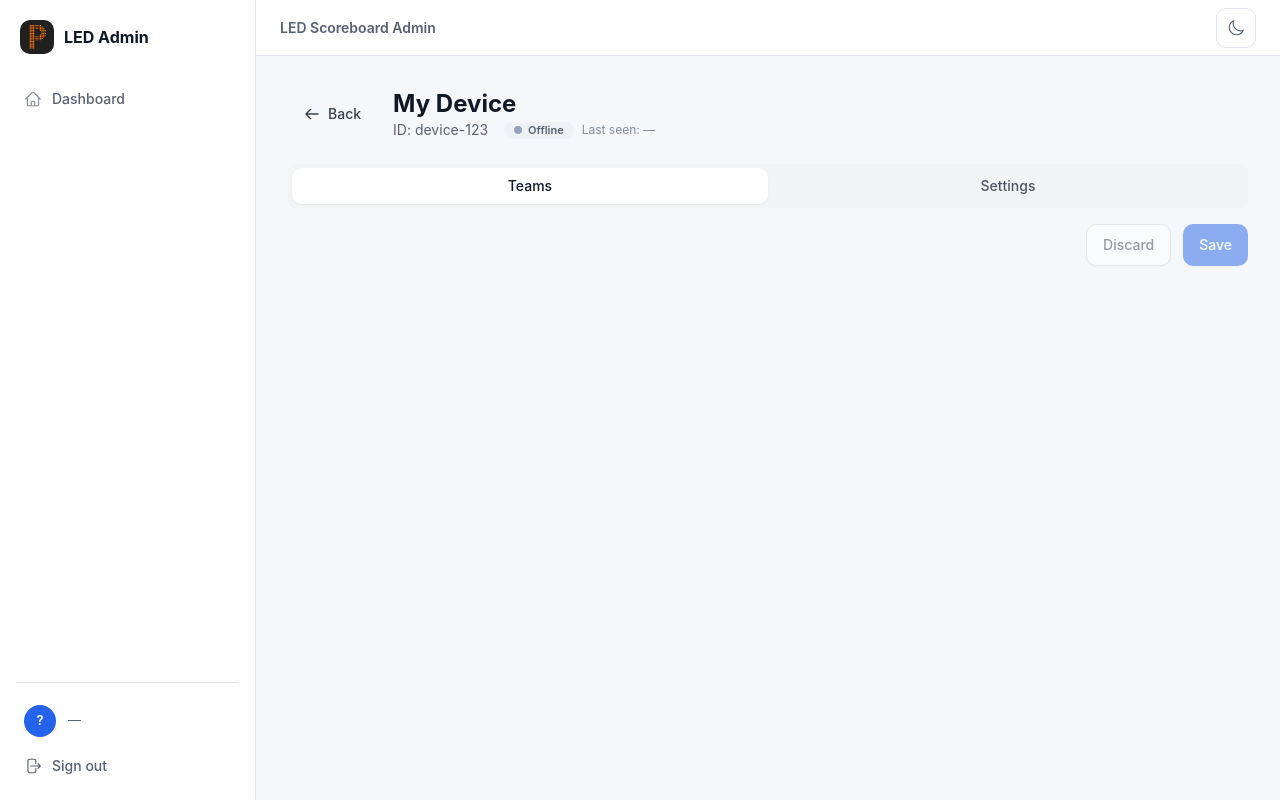
Test: DevicePage – rename message live-region and fetch guard › shows "Name updated." with role=status on successful rename
Click the tab "Settings".
click(1008, 186)  # box left=772, top=168, right=1244, bottom=204
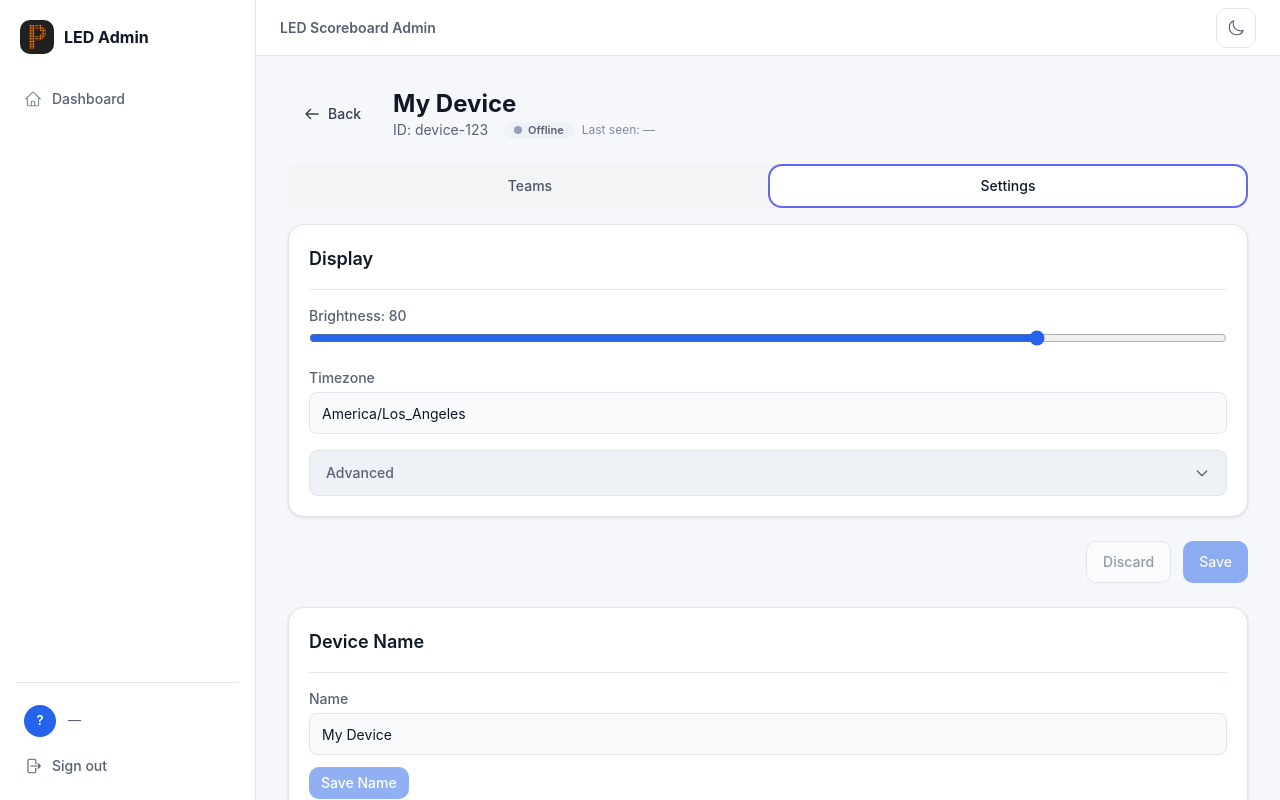
Replace the text in the field with placeholder "My Scoreboard" with "Updated" at coordinates (768, 734), box left=309, top=713, right=1227, bottom=755
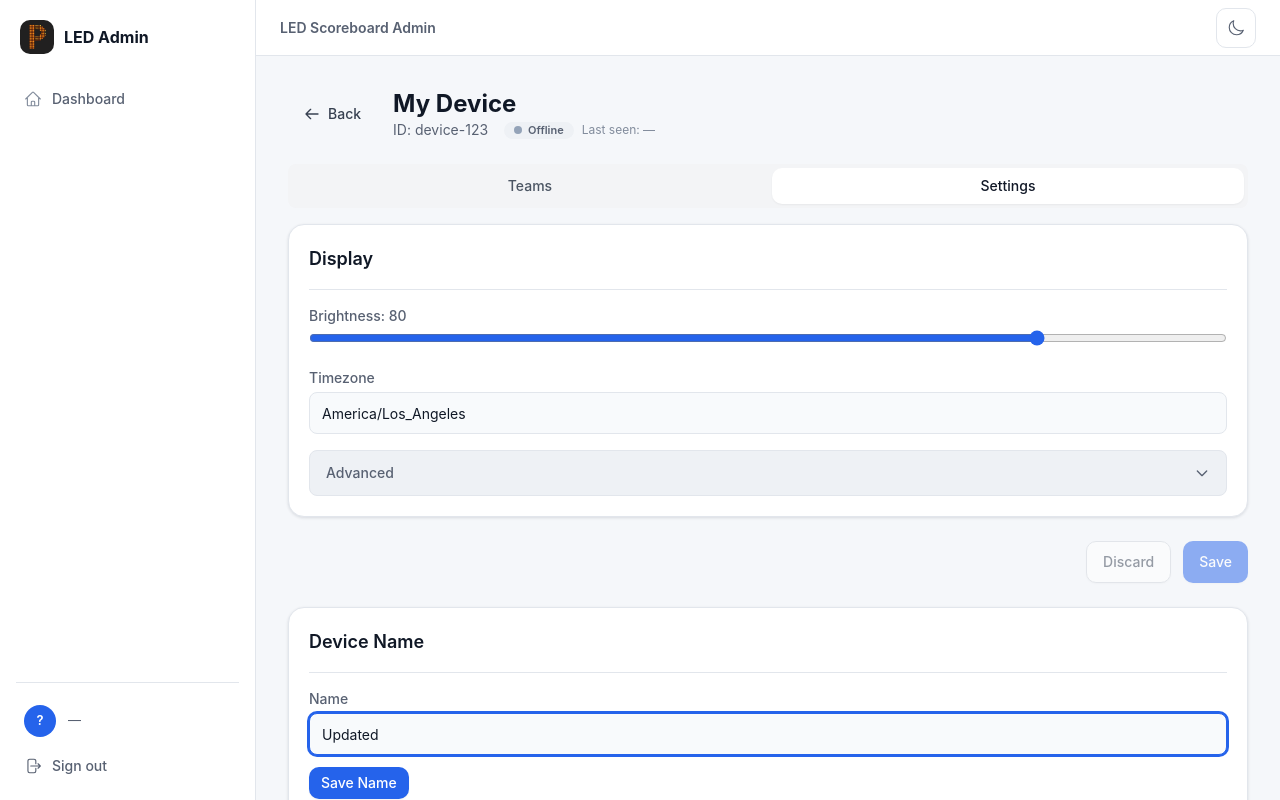
Click the button "Save Name".
click(359, 783)  # box left=309, top=767, right=409, bottom=799
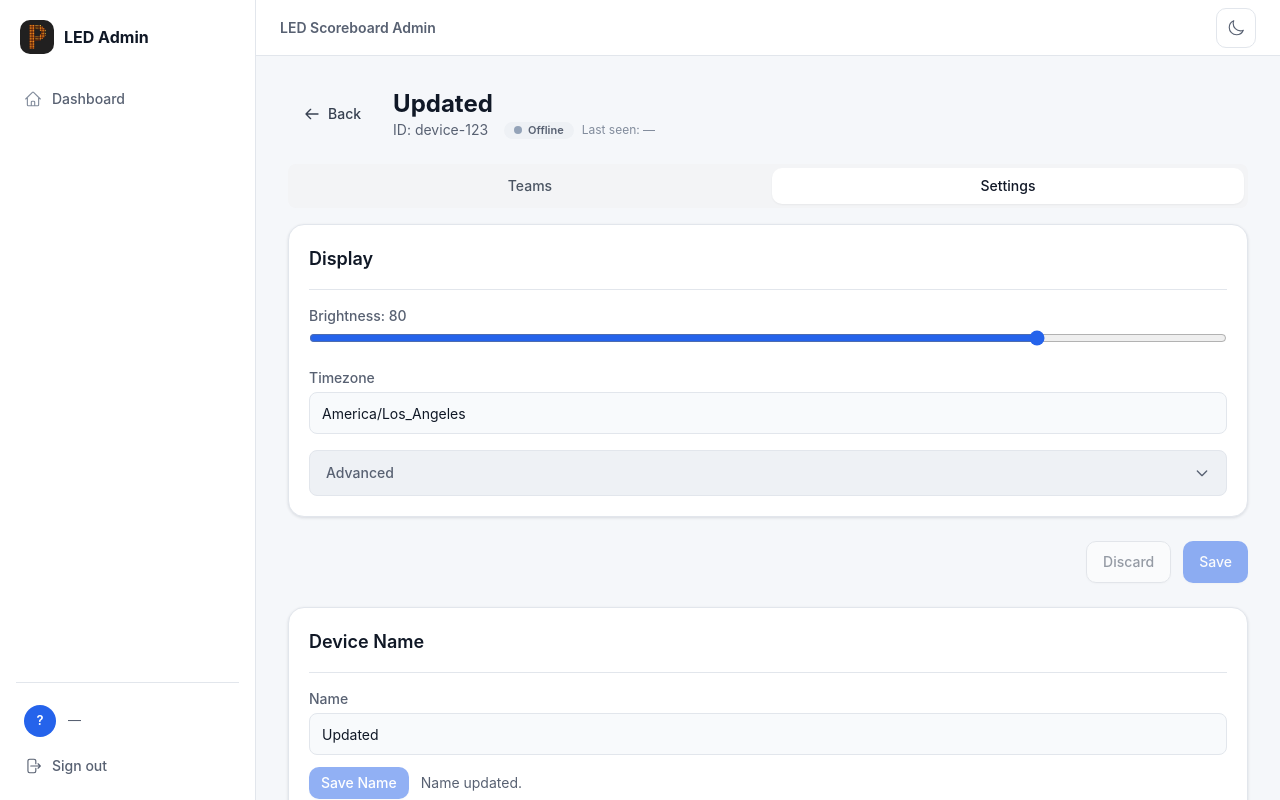
Check: the message reads "Name updated.", box left=421, top=774, right=522, bottom=791
